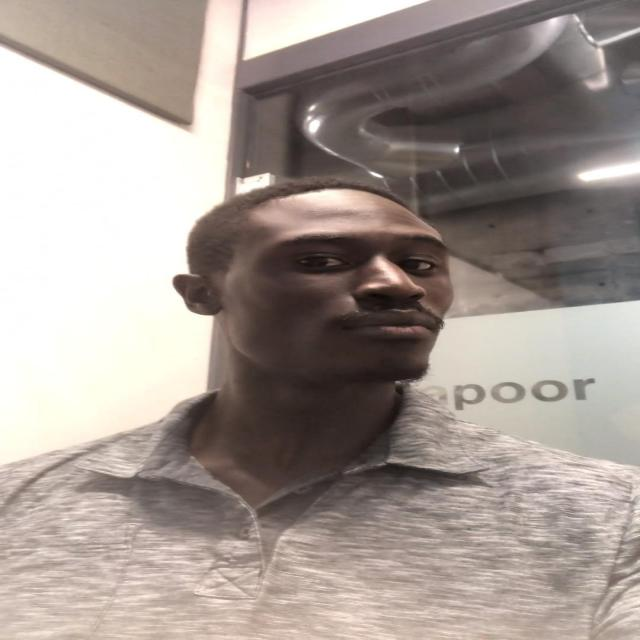face: (214, 192, 451, 380)
